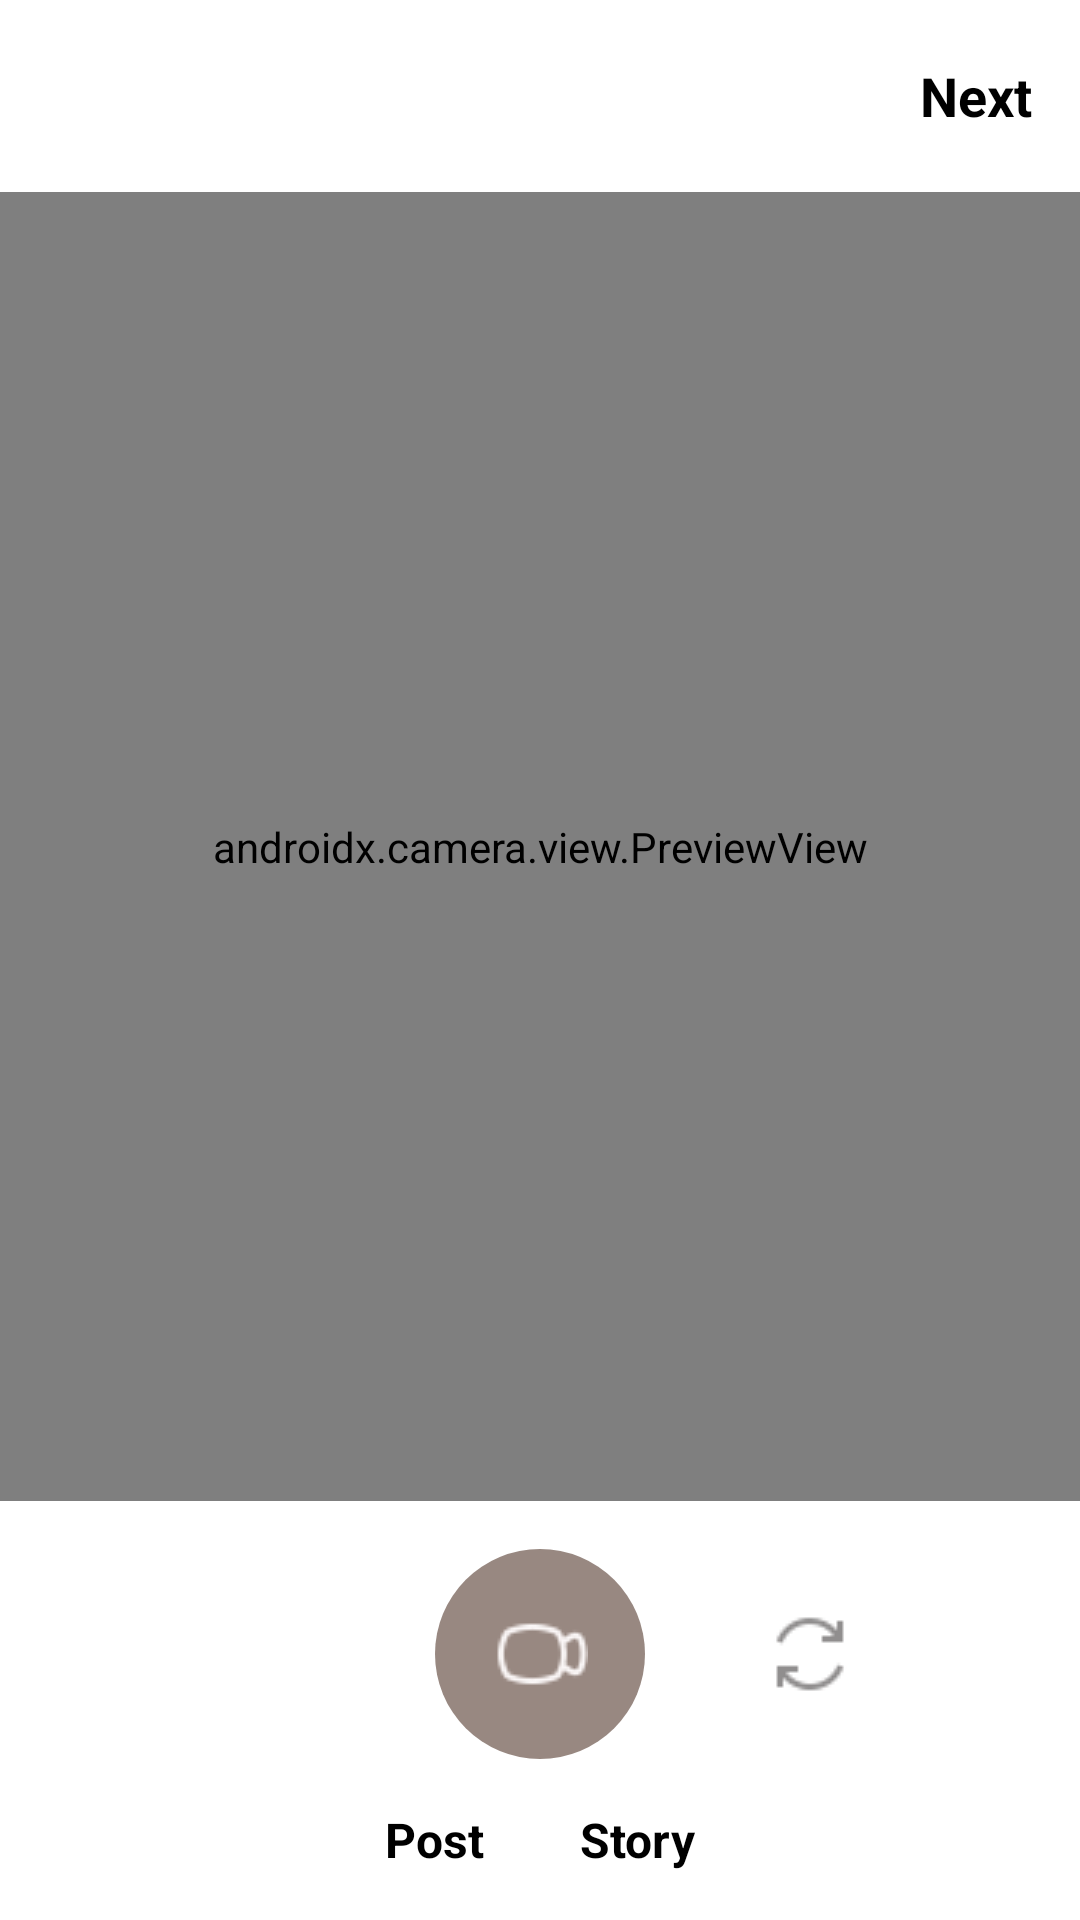

Icons on this 1080px×1920px Android screen, each with its box as (x1, y1, x2, y2):
switch camera: (776, 1617, 844, 1691)
vidcall: (435, 1549, 645, 1759)
